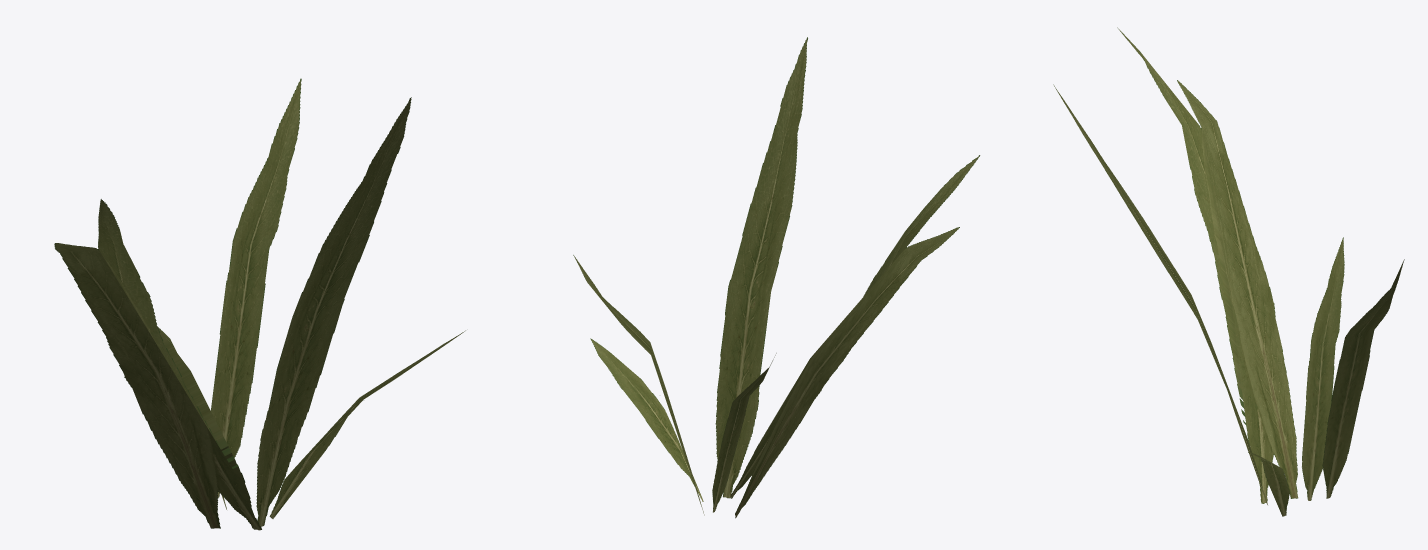
File: LowPolyGrass.fbx
3 renders of one model, left to right at view 1: azimuth 30°, elevation 25°; view 2: azimuth 150°, elevation 25°; view 3: azimuth 270°, elevation 25°, orthographic. The views are drawn at different scales.
Visible parts, largest first — view 1: LowPoly_Grass; view 2: LowPoly_Grass; view 3: LowPoly_Grass.
Boxes of the visible parts, x1,y1,x2,y2 form: LowPoly_Grass: (54, 78, 465, 530); LowPoly_Grass: (573, 37, 980, 518); LowPoly_Grass: (1053, 27, 1404, 516).
Bounding box in the file's own units: 85.14 × 82.74 × 61.5.
